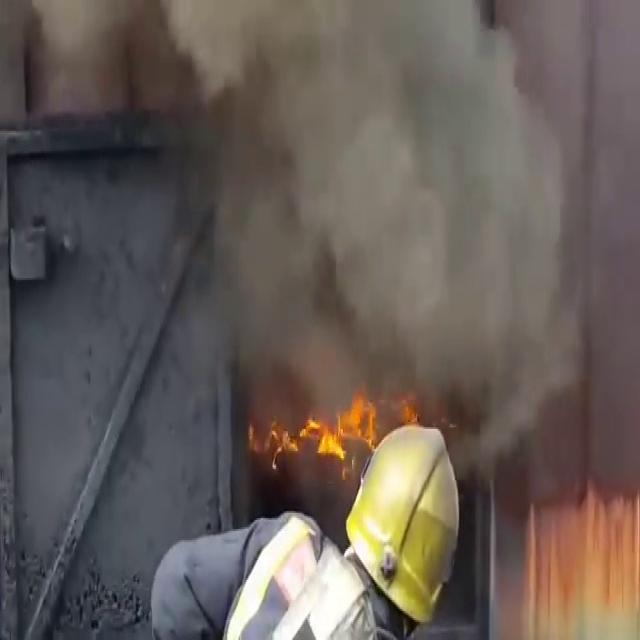Fire: (255, 391, 379, 461)
Smoke: (136, 0, 614, 389)
